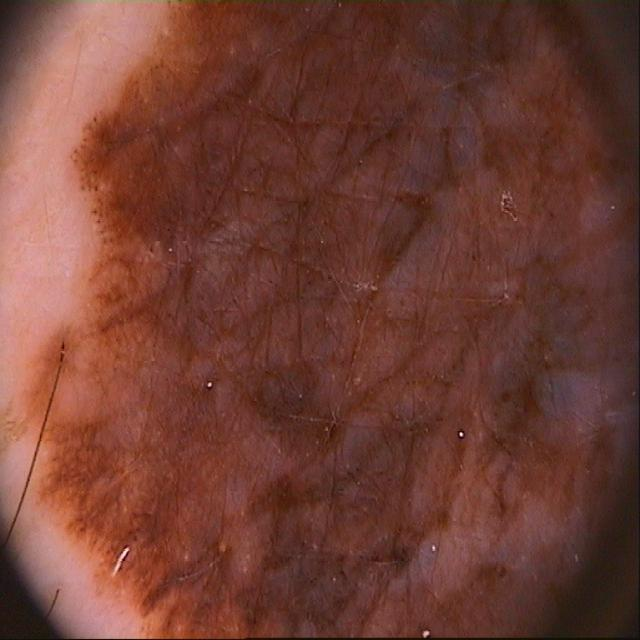Melanoma: (29, 0, 638, 638)
